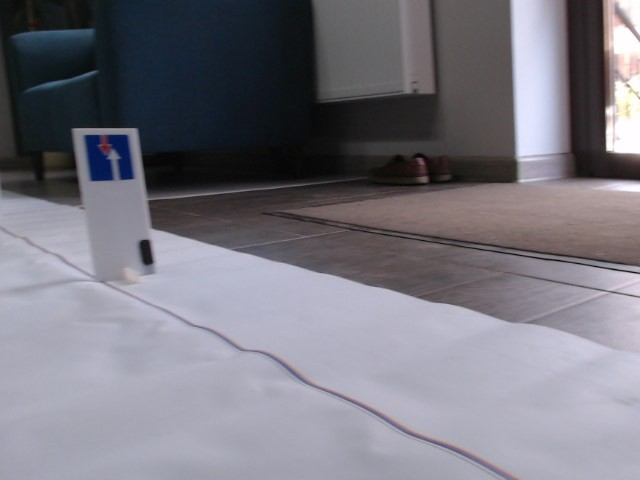priority_movement: (83, 133, 135, 182)
